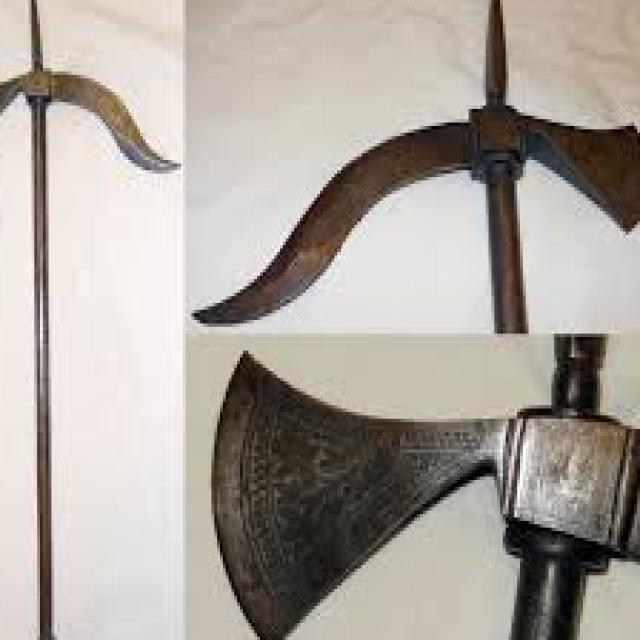Gun: (180, 0, 640, 327), (220, 340, 640, 640), (0, 0, 171, 640)
